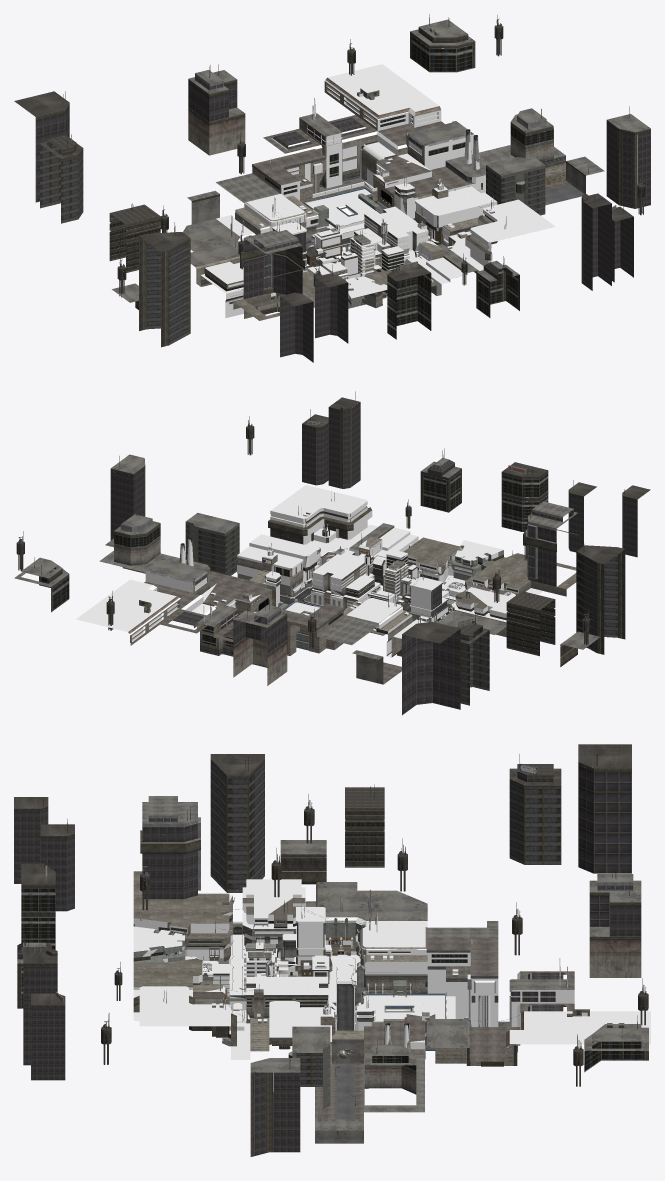
The model's file is vistadistrict.glb.
The picture shows the model from 3 angles, top to bottom: view 1: azimuth 30°, elevation 25°; view 2: azimuth 150°, elevation 25°; view 3: azimuth 270°, elevation 25°; orthographic projection. The views are drawn at different scales.
Parts seen in each view (by area): view 1: vistadistrict, phy-body-main-trimesh-0kg-0001.002, phy-body-main-trimesh-0kg-0001.018, phy-body-main-trimesh-0kg-0001.015, phy-body-main-trimesh-0kg-0001.003, phy-body-main-trimesh-0kg-0001.019, phy-body-main-trimesh-0kg-0001.052, phy-body-main-trimesh-0kg-0001.023, phy-body-main-trimesh-0kg-0001.004, phy-body-main-trimesh-0kg-0001.007, phy-body-main-trimesh-0kg-0001.066, phy-body-main-trimesh-0kg-0001.013 (+8 smaller); view 2: vistadistrict, phy-body-main-trimesh-0kg-0001.002, phy-body-main-trimesh-0kg-0001.018, phy-body-main-trimesh-0kg-0001.019, phy-body-main-trimesh-0kg-0001.014, phy-body-main-trimesh-0kg-0001.017, phy-body-main-trimesh-0kg-0001.021, phy-body-main-trimesh-0kg-0001.015, phy-body-main-trimesh-0kg-0001.052, phy-body-main-trimesh-0kg-0001.069, phy-body-main-trimesh-0kg-0001.059, phy-body-main-trimesh-0kg-0001.016 (+7 smaller); view 3: vistadistrict, phy-body-main-trimesh-0kg-0001.002, phy-body-main-trimesh-0kg-0001.018, phy-body-main-trimesh-0kg-0001.008, phy-body-main-trimesh-0kg-0001.021, phy-body-main-trimesh-0kg-0001.069, phy-body-main-trimesh-0kg-0001.023, phy-body-main-trimesh-0kg-0001.052, phy-body-main-trimesh-0kg-0001.058, phy-body-main-trimesh-0kg-0001.026, phy-body-main-trimesh-0kg-0001.015, phy-body-main-trimesh-0kg-0001.003 (+6 smaller).
Part boxes in pixels (box(x1,y1,x2,y2)): vistadistrict: box(14, 14, 650, 362); phy-body-main-trimesh-0kg-0001.002: box(325, 64, 441, 130); phy-body-main-trimesh-0kg-0001.018: box(447, 199, 555, 265); phy-body-main-trimesh-0kg-0001.015: box(426, 192, 497, 242); phy-body-main-trimesh-0kg-0001.003: box(271, 98, 378, 188); phy-body-main-trimesh-0kg-0001.019: box(404, 235, 483, 294); phy-body-main-trimesh-0kg-0001.052: box(364, 212, 417, 264); phy-body-main-trimesh-0kg-0001.023: box(201, 259, 243, 318); phy-body-main-trimesh-0kg-0001.004: box(406, 122, 474, 169); phy-body-main-trimesh-0kg-0001.007: box(363, 131, 398, 200); phy-body-main-trimesh-0kg-0001.066: box(341, 237, 374, 279); phy-body-main-trimesh-0kg-0001.013: box(385, 171, 443, 221); vistadistrict: box(14, 391, 650, 715); phy-body-main-trimesh-0kg-0001.002: box(76, 579, 180, 641); phy-body-main-trimesh-0kg-0001.018: box(270, 485, 372, 549); phy-body-main-trimesh-0kg-0001.019: box(341, 524, 418, 573); phy-body-main-trimesh-0kg-0001.014: box(237, 543, 309, 595); phy-body-main-trimesh-0kg-0001.017: box(303, 508, 350, 551); phy-body-main-trimesh-0kg-0001.021: box(443, 540, 512, 589); phy-body-main-trimesh-0kg-0001.015: box(250, 534, 316, 588); phy-body-main-trimesh-0kg-0001.052: box(327, 547, 374, 588); phy-body-main-trimesh-0kg-0001.069: box(410, 577, 507, 622); phy-body-main-trimesh-0kg-0001.059: box(409, 582, 432, 621); phy-body-main-trimesh-0kg-0001.016: box(270, 505, 335, 570); vistadistrict: box(14, 744, 648, 1156); phy-body-main-trimesh-0kg-0001.002: box(509, 1011, 650, 1044); phy-body-main-trimesh-0kg-0001.018: box(134, 986, 230, 1026); phy-body-main-trimesh-0kg-0001.008: box(446, 974, 498, 1026); phy-body-main-trimesh-0kg-0001.021: box(133, 915, 200, 959); phy-body-main-trimesh-0kg-0001.069: box(233, 888, 357, 980); phy-body-main-trimesh-0kg-0001.023: box(229, 879, 305, 941); phy-body-main-trimesh-0kg-0001.052: box(243, 952, 327, 1023); phy-body-main-trimesh-0kg-0001.058: box(288, 921, 331, 992); phy-body-main-trimesh-0kg-0001.026: box(187, 923, 233, 983); phy-body-main-trimesh-0kg-0001.015: box(258, 1001, 299, 1037); phy-body-main-trimesh-0kg-0001.003: box(509, 958, 574, 1051).
Size of the model in its own units: 577 by 140 by 509.
79 materials, 77 textured.
